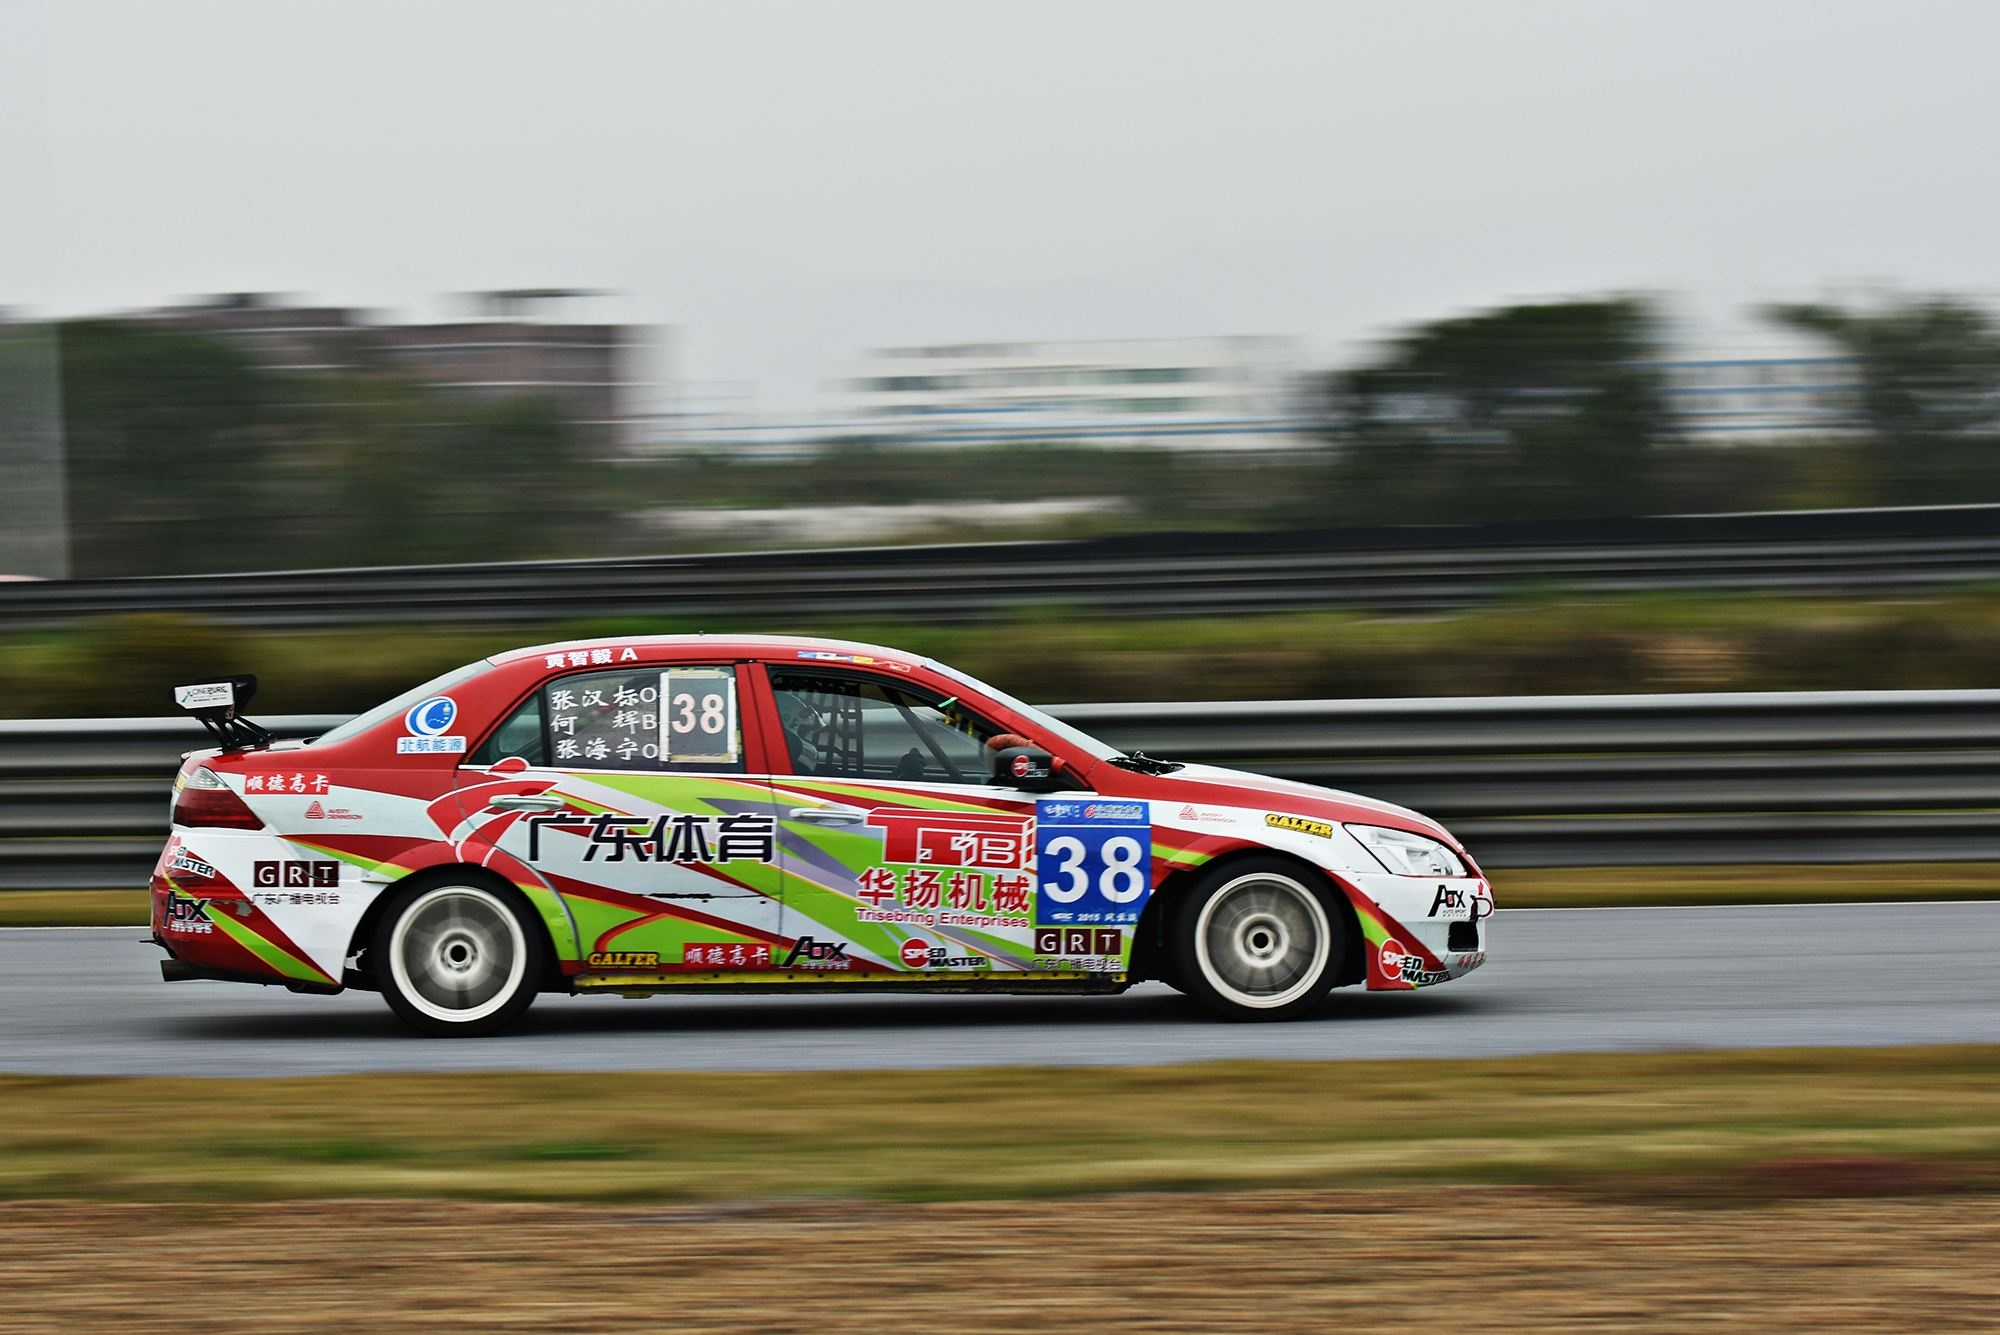racing car: (121, 557, 1522, 1037)
